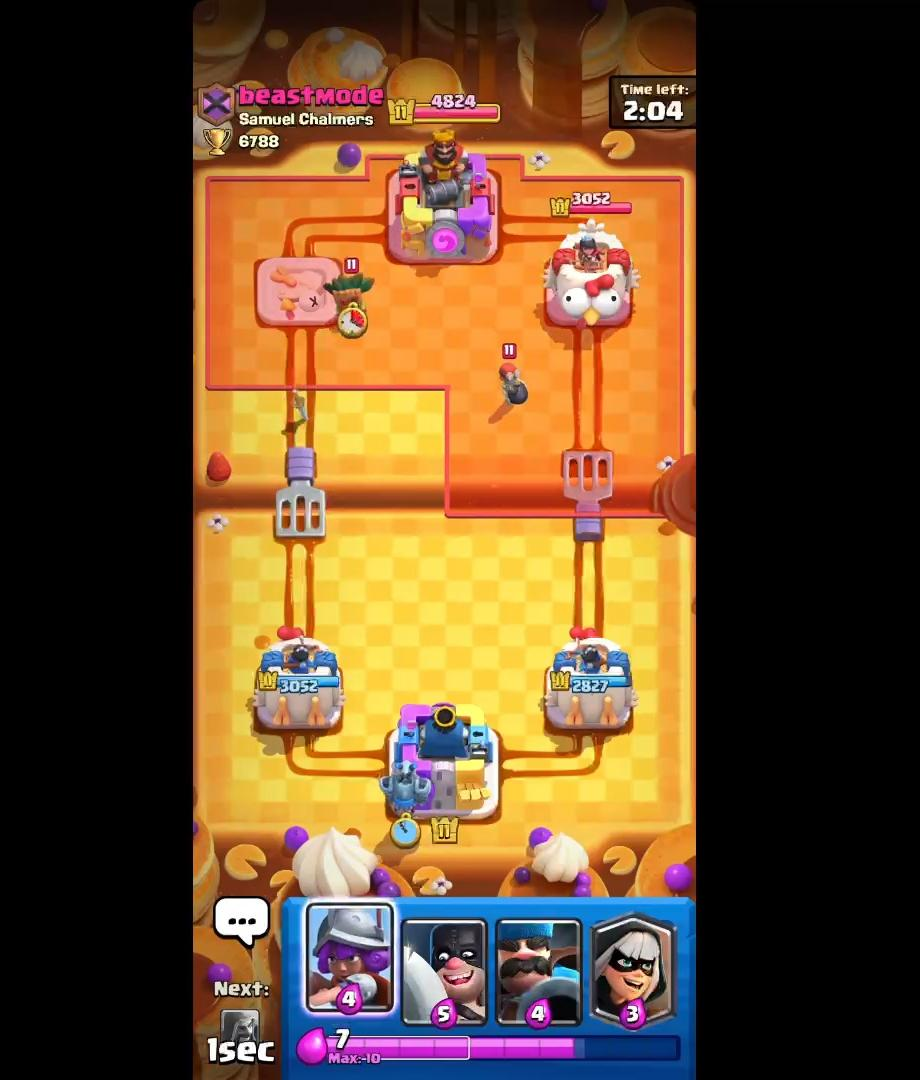Bomber: (493, 339, 538, 412)
